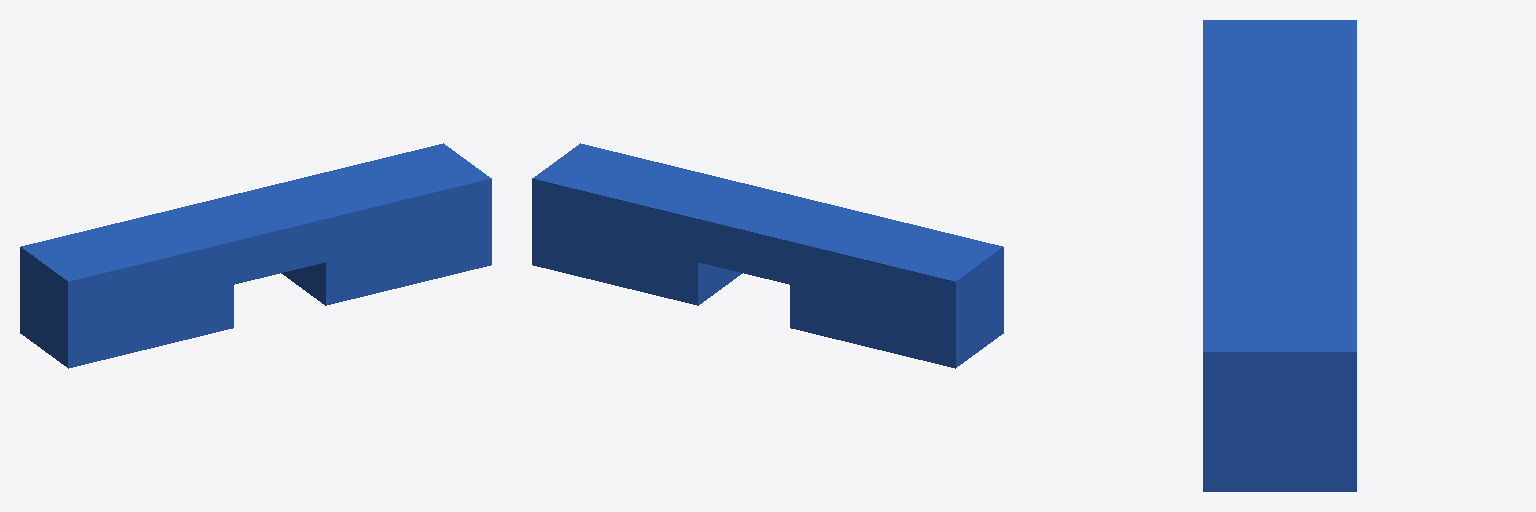
robot.urdf — obj_7:
<robot name="obj_7" version="1.0">
  <link name="obj_7">
    <collision name="medium-piece-3-collision.001">
      <origin rpy="0.00000 0.00000 0.00000" xyz="0.00000 0.00000 0.00000"/>
      <geometry>
        <mesh filename="../meshes/obj/medium-piece-3-collision.001.obj" scale="1.00000 1.00000 1.00000"/>
      </geometry>
    </collision>
    <collision name="medium-piece-3-collision.002">
      <origin rpy="0.00000 0.00000 0.00000" xyz="0.00000 0.00000 0.00000"/>
      <geometry>
        <mesh filename="../meshes/obj/medium-piece-3-collision.002.obj" scale="1.00000 1.00000 1.00000"/>
      </geometry>
    </collision>
    <collision name="medium-piece-3-collision.003">
      <origin rpy="0.00000 0.00000 0.00000" xyz="0.00000 0.00000 0.00000"/>
      <geometry>
        <mesh filename="../meshes/obj/medium-piece-3-collision.003.obj" scale="1.00000 1.00000 1.00000"/>
      </geometry>
    </collision>
    <inertial>
      <inertia ixx="0.00000" ixy="-0.00000" ixz="0.00000" iyy="0.00002" iyz="0.00000" izz="0.00002"/>
      <origin rpy="0.00000 0.00000 0.00000" xyz="-0.20410 0.13440 0.18266"/>
      <mass value="0.00400"/>
    </inertial>
    <visual name="medium-piece-3">
      <material name="turnarrow"/>
      <origin rpy="-3.14159 0.00000 0.00000" xyz="-0.20410 0.13440 0.17490"/>
      <geometry>
        <mesh filename="../meshes/obj/medium-piece.003.obj" scale="0.00500 0.00500 0.00500"/>
      </geometry>
    </visual>
  </link>
  <material name="turnarrow">
    <color rgba="0.23137 0.44706 0.80000 1.00000"/>
  </material>
</robot>

--- Render facts (derived) ---
Views: 3 orthographic renders of the robot side by side, from view 1: azimuth 30°, elevation 25°; view 2: azimuth 150°, elevation 25°; view 3: azimuth 270°, elevation 25°.
Model obj_7 with 1 links and 0 joints (none), rooted at obj_7, posed all joints at 0.
Links seen in each view (by area): view 1: obj_7; view 2: obj_7; view 3: obj_7.
Link boxes in pixels (x1,y1,x2,y2): obj_7: [20, 143, 491, 368]; obj_7: [532, 143, 1003, 368]; obj_7: [1203, 20, 1356, 491].
Bounding box of the posed robot: 0.255 × 0.05 × 0.05 m (x, y, z).
Meshes: 1 distinct files referenced, 1 mesh visuals loaded (1 OBJ).